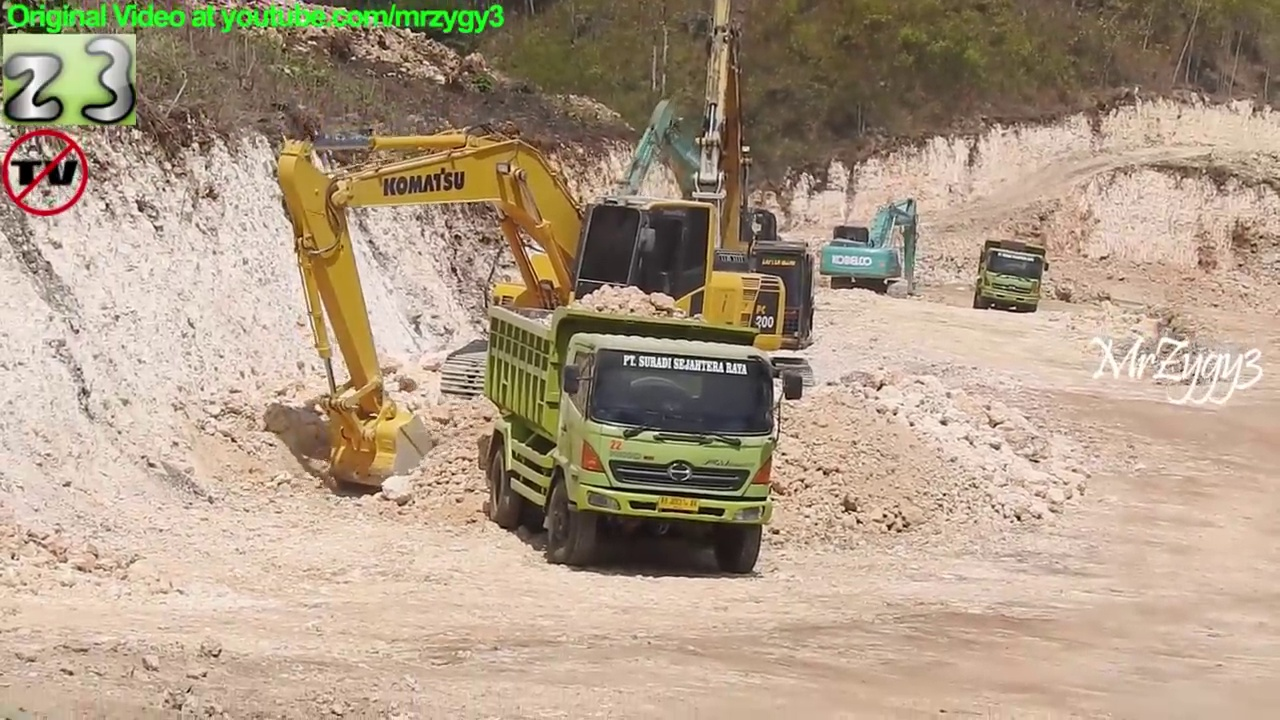excavator: (274, 126, 788, 495), (522, 1, 822, 410), (817, 195, 926, 296)
truck: (481, 296, 809, 579), (972, 236, 1053, 319)
